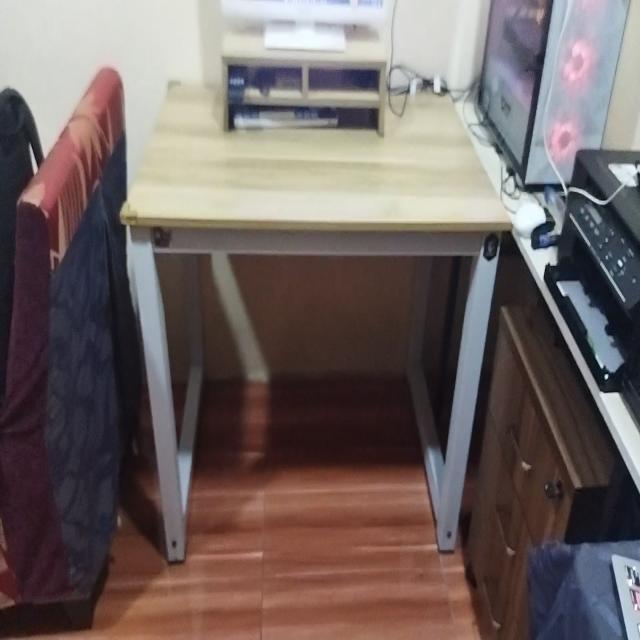table: (127, 70, 506, 577)
